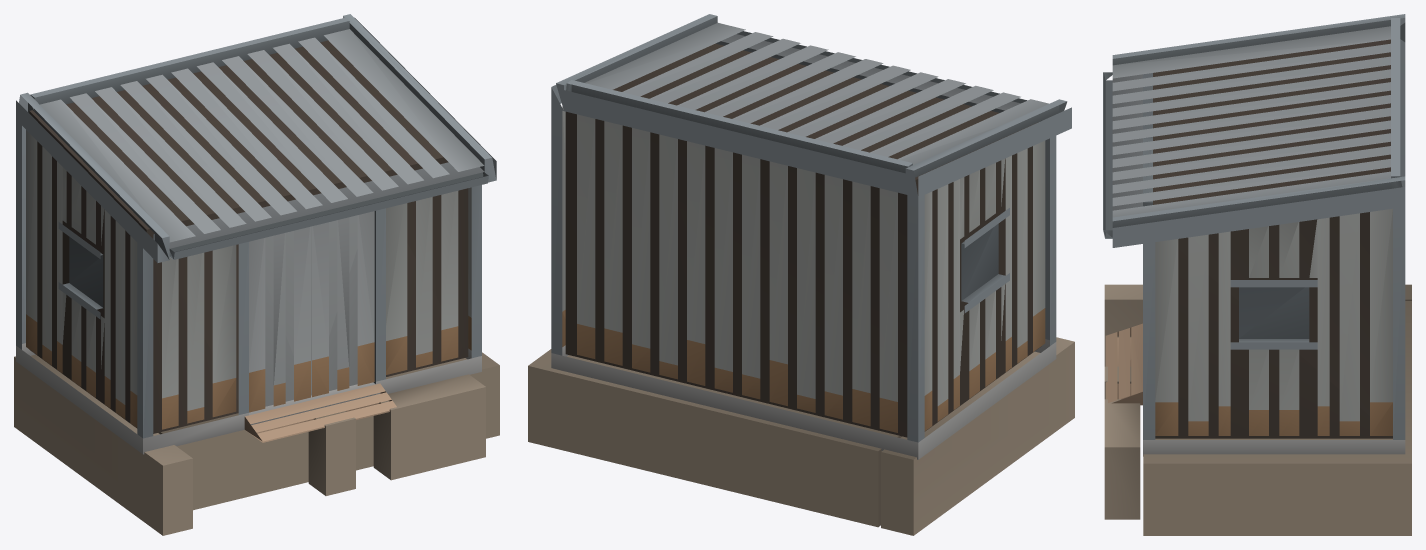
File: store.lod.glb
3 views of the same model, side by side, from view 1: azimuth 30°, elevation 25°; view 2: azimuth 150°, elevation 25°; view 3: azimuth 270°, elevation 25° (orthographic). The views are drawn at different scales.
Parts seen in each view (by area): view 1: store; view 2: store; view 3: store.
Boxes of the visible parts, bbox=[...] form: store: bbox=[14, 14, 499, 535]; store: bbox=[528, 14, 1074, 535]; store: bbox=[1103, 14, 1411, 535].
Bounding box in the file's own units: 5.48 × 4.9 × 3.98.
